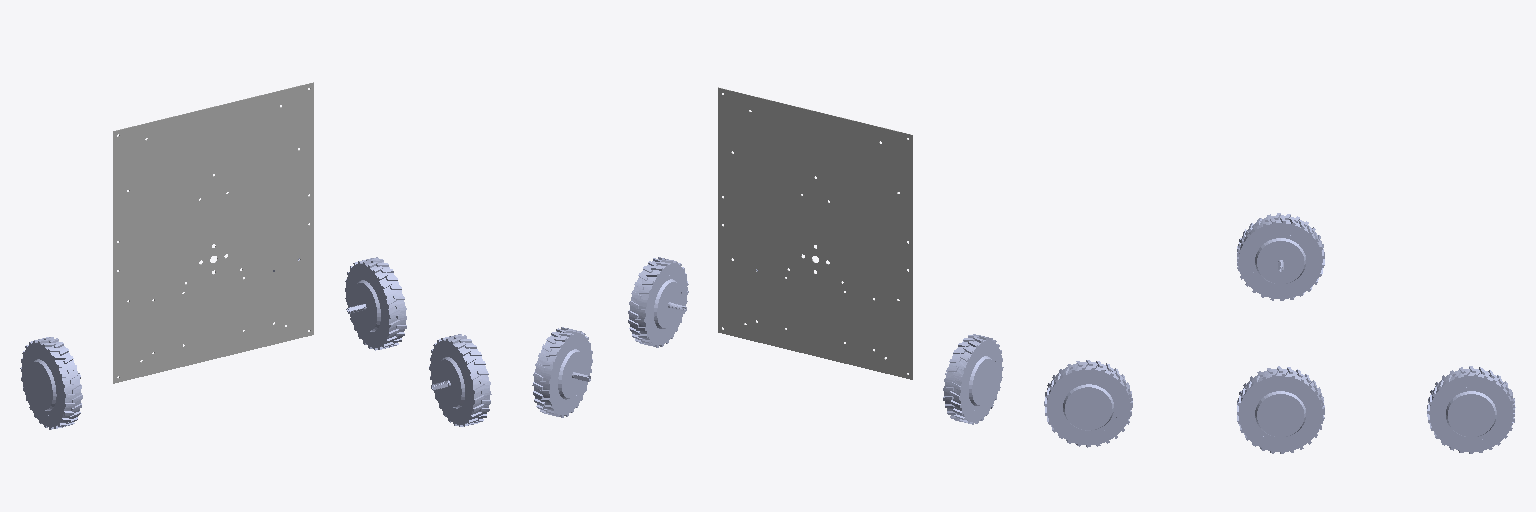
robot.urdf — mesh_test_11:
<?xml version="1.0" encoding="utf-8"?>
<!-- This URDF was automatically created by SolidWorks to URDF Exporter! Originally created by [author] ([email redacted]) 
     Commit Version: 1.6.0-4-g7f85cfe  Build Version: 1.6.7995.38578
     For more information, please see http://wiki.ros.org/sw_urdf_exporter -->
<robot
  name="mesh_test_11">
  <link
    name="base_link">
    <inertial>
      <origin
        xyz="0.00692300883861864 -0.14353051798543 0.0772875003984624"
        rpy="0 0 0" />
      <mass
        value="9.55449025781066" />
      <inertia
        ixx="0.0834255284828467"
        ixy="0.000552206617874339"
        ixz="-0.000123136822187102"
        iyy="0.0523413300154945"
        iyz="0.000281627821700708"
        izz="0.124218578997402" />
    </inertial>
    <visual>
      <origin
        xyz="0 0 0"
        rpy="0 0 0" />
      <geometry>
        <mesh
          filename="package://mesh_test_11/meshes/base_link.STL" />
      </geometry>
      <material
        name="">
        <color
          rgba="0.752941176470588 0.752941176470588 0.752941176470588 1" />
      </material>
    </visual>
    <collision>
      <origin
        xyz="0 0 0"
        rpy="0 0 0" />
      <geometry>
        <mesh
          filename="package://mesh_test_11/meshes/base_link.STL" />
      </geometry>
    </collision>
  </link>
  <link
    name="left_rear_wheel_link">
    <inertial>
      <origin
        xyz="0.00011830553141251 -5.65586319878353E-06 -2.13247584311405E-05"
        rpy="0 0 0" />
      <mass
        value="1.38515667925412" />
      <inertia
        ixx="0.00608670649415379"
        ixy="-1.30467261717292E-10"
        ixz="5.0163442764188E-08"
        iyy="0.00331734803830799"
        iyz="5.84204524468092E-11"
        izz="0.00331733096263903" />
    </inertial>
    <visual>
      <origin
        xyz="0 0 0"
        rpy="0 0 0" />
      <geometry>
        <mesh
          filename="package://mesh_test_11/meshes/left_rear_wheel_link.STL" />
      </geometry>
      <material
        name="">
        <color
          rgba="0.792156862745098 0.819607843137255 0.933333333333333 1" />
      </material>
    </visual>
    <collision>
      <origin
        xyz="0 0 0"
        rpy="0 0 0" />
      <geometry>
        <mesh
          filename="package://mesh_test_11/meshes/left_rear_wheel_link.STL" />
      </geometry>
    </collision>
  </link>
  <joint
    name="left_rear_wheel_joint"
    type="continuous">
    <origin
      xyz="-0.410080546831399 0.431805633687278 -0.266679314193787"
      rpy="0 0 0" />
    <parent
      link="base_link" />
    <child
      link="left_rear_wheel_link" />
    <axis
      xyz="-1 0 0" />
  </joint>
  <link
    name="right_rear_wheel_link">
    <inertial>
      <origin
        xyz="-0.000118305531397078 0.00763560125671892 0.0230472900127958"
        rpy="0 0 0" />
      <mass
        value="1.38515667925022" />
      <inertia
        ixx="0.00608670649414288"
        ixy="-1.51613486827946E-10"
        ixz="-5.01382976676824E-08"
        iyy="0.00331734776436555"
        iyz="-1.68192191756747E-11"
        izz="0.00331733123657076" />
    </inertial>
    <visual>
      <origin
        xyz="0 0 0"
        rpy="0 0 0" />
      <geometry>
        <mesh
          filename="package://mesh_test_11/meshes/right_rear_wheel_link.STL" />
      </geometry>
      <material
        name="">
        <color
          rgba="0.792156862745098 0.819607843137255 0.933333333333333 1" />
      </material>
    </visual>
    <collision>
      <origin
        xyz="0 0 0"
        rpy="0 0 0" />
      <geometry>
        <mesh
          filename="package://mesh_test_11/meshes/right_rear_wheel_link.STL" />
      </geometry>
    </collision>
  </link>
  <joint
    name="right_rear_wheel_joint"
    type="continuous">
    <origin
      xyz="0.410144046831401 0.424164395078577 -0.289747837637522"
      rpy="0 0 0" />
    <parent
      link="base_link" />
    <child
      link="right_rear_wheel_link" />
    <axis
      xyz="1 0 0" />
  </joint>
  <link
    name="left_middle_wheel_link">
    <inertial>
      <origin
        xyz="0.000118305531389473 -6.06477609237547E-06 -2.11493139803953E-05"
        rpy="0 0 0" />
      <mass
        value="1.38515667924975" />
      <inertia
        ixx="0.00608670649414168"
        ixy="3.79376286142181E-08"
        ixz="3.27726783483362E-08"
        iyy="0.00331733834943749"
        iyz="-8.20130896084514E-09"
        izz="0.00331734065149748" />
    </inertial>
    <visual>
      <origin
        xyz="0 0 0"
        rpy="0 0 0" />
      <geometry>
        <mesh
          filename="package://mesh_test_11/meshes/left_middle_wheel_link.STL" />
      </geometry>
      <material
        name="">
        <color
          rgba="0.792156862745098 0.819607843137255 0.933333333333333 1" />
      </material>
    </visual>
    <collision>
      <origin
        xyz="0 0 0"
        rpy="0 0 0" />
      <geometry>
        <mesh
          filename="package://mesh_test_11/meshes/left_middle_wheel_link.STL" />
      </geometry>
    </collision>
  </link>
  <joint
    name="left_middle_wheel_joint"
    type="continuous">
    <origin
      xyz="-0.410080546831395 0 -0.266679294969506"
      rpy="0 0 0" />
    <parent
      link="base_link" />
    <child
      link="left_middle_wheel_link" />
    <axis
      xyz="-1 0 0" />
  </joint>
  <link
    name="right_middle_wheel_link">
    <inertial>
      <origin
        xyz="-0.000118305531424778 0.0076351878226019 0.0230474792859071"
        rpy="0 0 0" />
      <mass
        value="1.38515667925641" />
      <inertia
        ixx="0.00608670649415985"
        ixy="-3.81060675117141E-08"
        ixz="-3.26231551854169E-08"
        iyy="0.00331733827450242"
        iyz="-8.43766950776915E-09"
        izz="0.00331734072645102" />
    </inertial>
    <visual>
      <origin
        xyz="0 0 0"
        rpy="0 0 0" />
      <geometry>
        <mesh
          filename="package://mesh_test_11/meshes/right_middle_wheel_link.STL" />
      </geometry>
      <material
        name="">
        <color
          rgba="0.792156862745098 0.819607843137255 0.933333333333333 1" />
      </material>
    </visual>
    <collision>
      <origin
        xyz="0 0 0"
        rpy="0 0 0" />
      <geometry>
        <mesh
          filename="package://mesh_test_11/meshes/right_middle_wheel_link.STL" />
      </geometry>
    </collision>
  </link>
  <joint
    name="right_middle_wheel_joint"
    type="continuous">
    <origin
      xyz="0.410144046831401 -0.00763560526423259 -0.289747837561235"
      rpy="0 0 0" />
    <parent
      link="base_link" />
    <child
      link="right_middle_wheel_link" />
    <axis
      xyz="1 0 0" />
  </joint>
  <link
    name="left_front_wheel_link">
    <inertial>
      <origin
        xyz="0.000155212043928044 -2.3612455217592E-05 4.13306403687641E-05"
        rpy="0 0 0" />
      <mass
        value="1.38515667925253" />
      <inertia
        ixx="0.00608670649414915"
        ixy="-1.51546150591786E-10"
        ixz="5.01389386245239E-08"
        iyy="0.00331734776435004"
        iyz="1.79208089237375E-11"
        izz="0.00331733123659271" />
    </inertial>
    <visual>
      <origin
        xyz="0 0 0"
        rpy="0 0 0" />
      <geometry>
        <mesh
          filename="package://mesh_test_11/meshes/left_front_wheel_link.STL" />
      </geometry>
      <material
        name="">
        <color
          rgba="0.792156862745098 0.819607843137255 0.933333333333333 1" />
      </material>
    </visual>
    <collision>
      <origin
        xyz="0 0 0"
        rpy="0 0 0" />
      <geometry>
        <mesh
          filename="package://mesh_test_11/meshes/left_front_wheel_link.STL" />
      </geometry>
    </collision>
  </link>
  <joint
    name="left_front_wheel_joint"
    type="continuous">
    <origin
      xyz="-0.372017453168602 -0.435014123947829 -0.267622490828346"
      rpy="0 0 0" />
    <parent
      link="base_link" />
    <child
      link="left_front_wheel_link" />
    <axis
      xyz="1 0 0" />
  </joint>
  <link
    name="right_front_wheel_link">
    <inertial>
      <origin
        xyz="-0.000118305531394081 0.0240239803189892 -0.0485832527049723"
        rpy="0 0 0" />
      <mass
        value="1.38515667925022" />
      <inertia
        ixx="0.0060867064941429"
        ixy="-1.51665263597686E-10"
        ixz="-5.01382975359675E-08"
        iyy="0.00331734776436552"
        iyz="-1.68365666027094E-11"
        izz="0.00331733123657081" />
    </inertial>
    <visual>
      <origin
        xyz="0 0 0"
        rpy="0 0 0" />
      <geometry>
        <mesh
          filename="package://mesh_test_11/meshes/right_front_wheel_link.STL" />
      </geometry>
      <material
        name="">
        <color
          rgba="0.792156862745098 0.819607843137255 0.933333333333333 1" />
      </material>
    </visual>
    <collision>
      <origin
        xyz="0 0 0"
        rpy="0 0 0" />
      <geometry>
        <mesh
          filename="package://mesh_test_11/meshes/right_front_wheel_link.STL" />
      </geometry>
    </collision>
  </link>
  <joint
    name="right_front_wheel_joint"
    type="continuous">
    <origin
      xyz="0.372044046831398 -0.459061618537854 -0.218998086123457"
      rpy="0 0 0" />
    <parent
      link="base_link" />
    <child
      link="right_front_wheel_link" />
    <axis
      xyz="1 0 0" />
  </joint>
</robot>

--- What the picture shows (computed from the rendered views, not written in the file) ---
Views: 3 orthographic renders of the robot side by side, from view 1: azimuth 30°, elevation 25°; view 2: azimuth 150°, elevation 25°; view 3: azimuth 270°, elevation 25°.
Robot: mesh_test_11 — 7 links, 6 joints (6 continuous); root link base_link; default pose: all joints at 0.
Visible links, largest first — view 1: base_link, right_middle_wheel_link, right_front_wheel_link, left_middle_wheel_link; view 2: base_link, right_middle_wheel_link, right_rear_wheel_link, left_middle_wheel_link; view 3: left_middle_wheel_link, right_rear_wheel_link, right_middle_wheel_link, right_front_wheel_link.
Boxes of the visible links, x1,y1,x2,y2 form: base_link: [113, 82, 313, 383]; right_middle_wheel_link: [345, 257, 406, 350]; right_front_wheel_link: [429, 334, 491, 426]; left_middle_wheel_link: [20, 337, 82, 429]; base_link: [718, 87, 912, 379]; right_middle_wheel_link: [628, 257, 688, 347]; right_rear_wheel_link: [532, 327, 592, 417]; left_middle_wheel_link: [943, 334, 1003, 424]; left_middle_wheel_link: [1237, 213, 1324, 300]; right_rear_wheel_link: [1427, 366, 1515, 453]; right_middle_wheel_link: [1237, 366, 1324, 453]; right_front_wheel_link: [1044, 360, 1132, 447].
Bounding box of the posed robot: 0.8763 × 1.07 × 0.6723 m (x, y, z).
5 mesh visuals loaded from 7 distinct referenced files (5 binary STL); not drawn: 2 (reference not matched to a file when rendering).